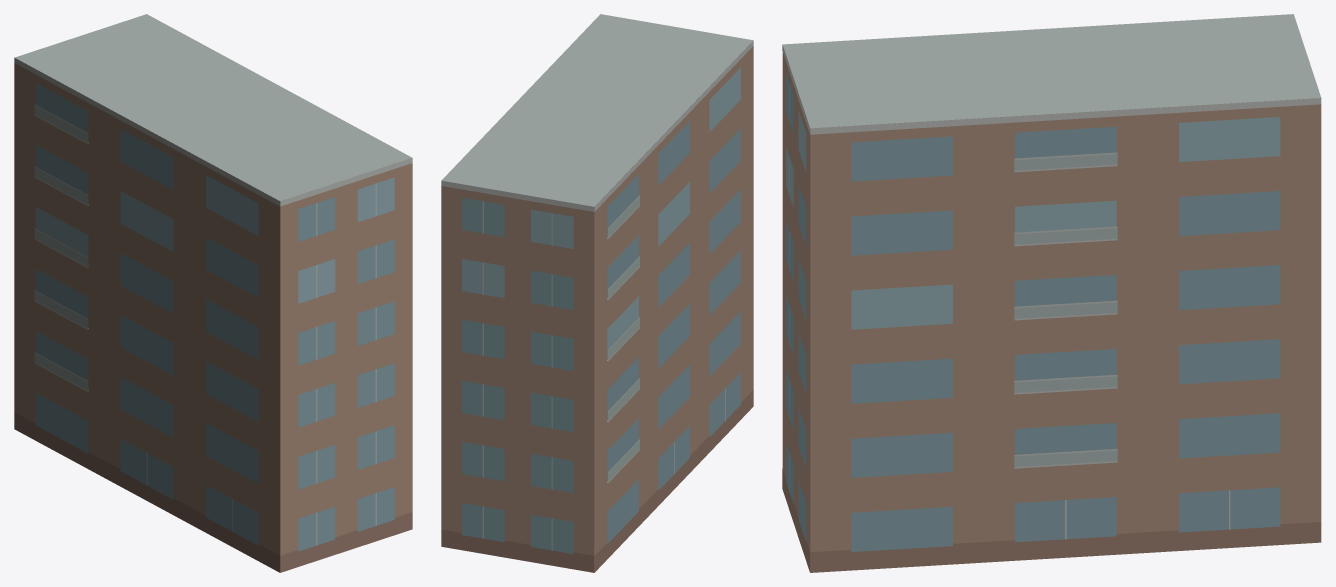
The model's file is survey-upis-32996886.glb.
3 views of the same model, side by side, from view 1: azimuth 30°, elevation 25°; view 2: azimuth 150°, elevation 25°; view 3: azimuth 270°, elevation 25° (orthographic). The views are drawn at different scales.
Parts seen in each view (by area): view 1: survey-upis-32996886.tmp; view 2: survey-upis-32996886.tmp; view 3: survey-upis-32996886.tmp.
Part boxes in pixels (x1=…): survey-upis-32996886.tmp: x1=14, y1=14, x2=412, y2=572; survey-upis-32996886.tmp: x1=441, y1=14, x2=753, y2=572; survey-upis-32996886.tmp: x1=782, y1=14, x2=1321, y2=572.
Size of the model in its own units: 9.45 by 17.1 by 18.8.
